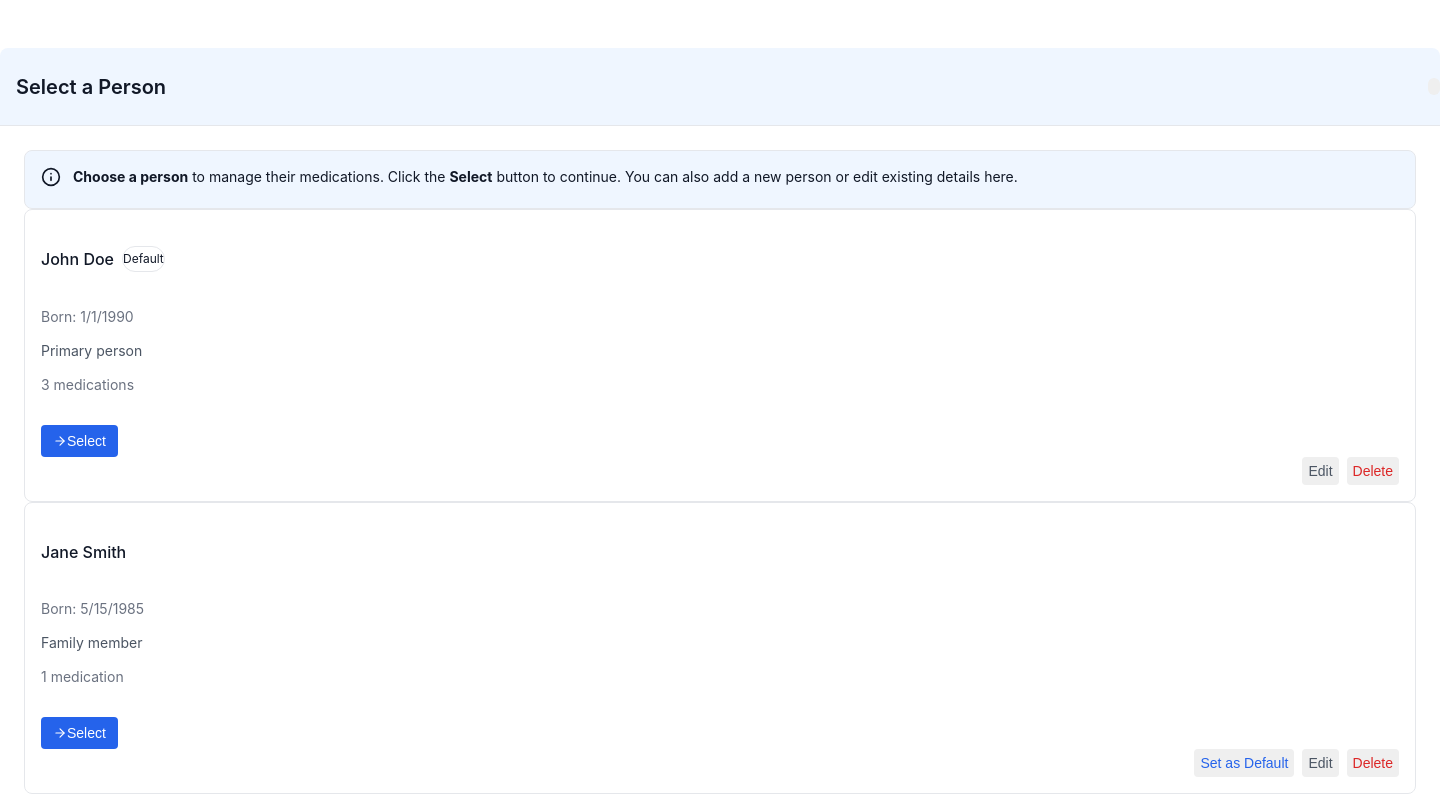
PersonManager › shows edit form when Edit clicked
The image size is (1452, 810).
Expected: the heading "John Doe" is shown, [41,248,114,272]
Click the 1st button "Edit": x=1320, y=471 [1302,457,1338,485]
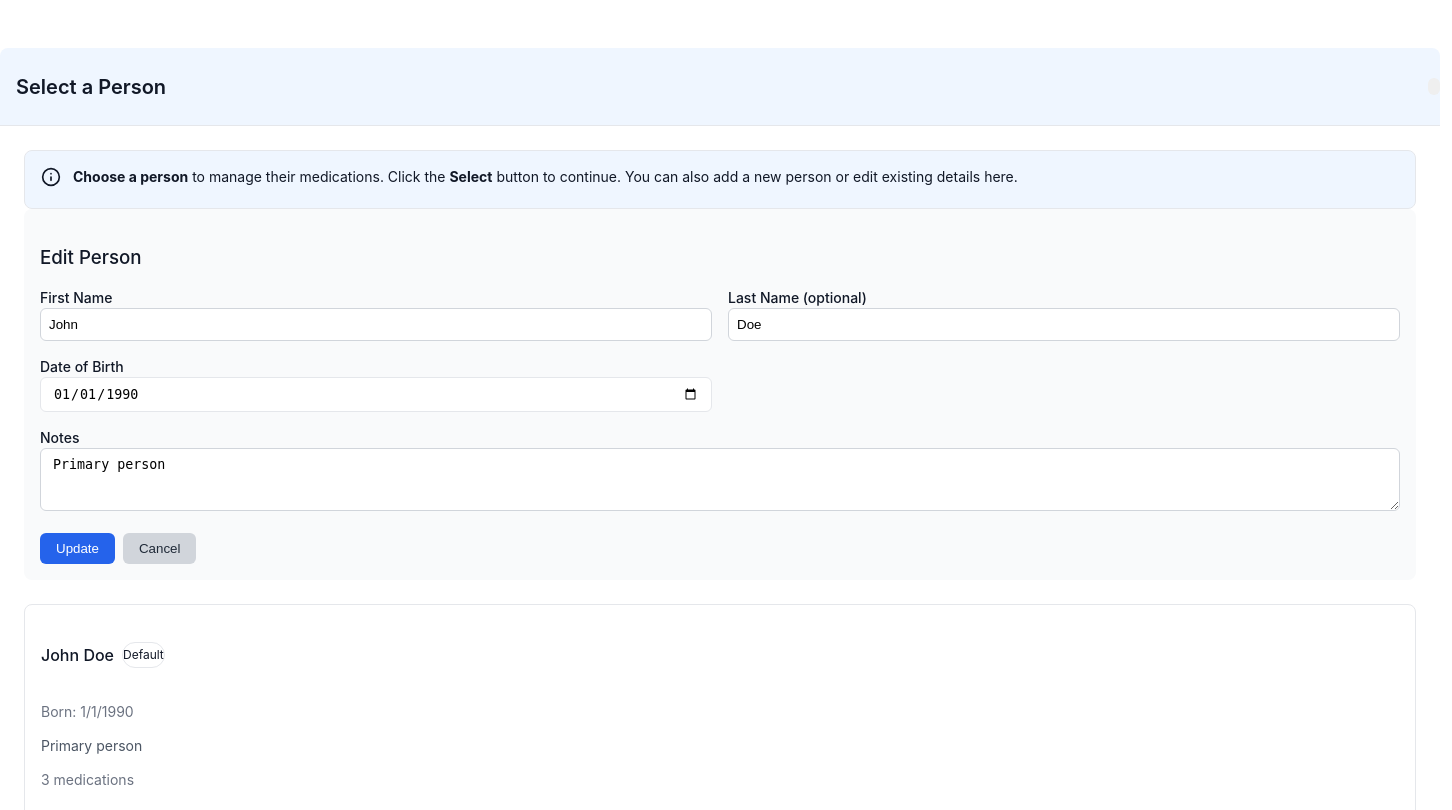
Now the heading "Edit Person" is shown, box [40,246,142,269]
Now the field showing "John" is shown, box [40,308,712,341]
Now the field showing "Doe" is shown, box [728,308,1400,341]
